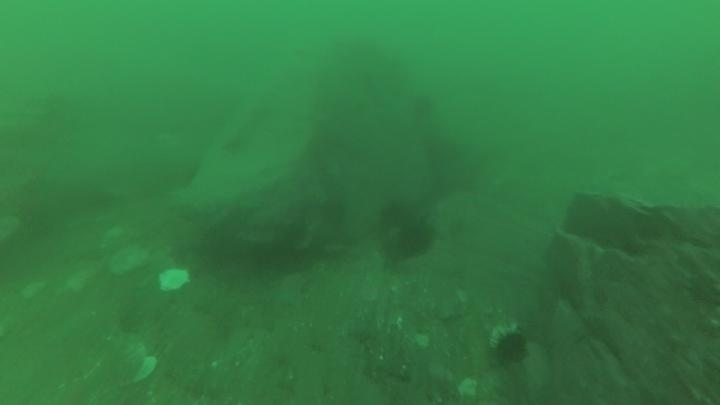echinus: (391, 217, 437, 261), (491, 328, 531, 366), (376, 198, 414, 232), (407, 92, 438, 123)
scallop: (119, 338, 160, 386), (107, 242, 151, 278)
